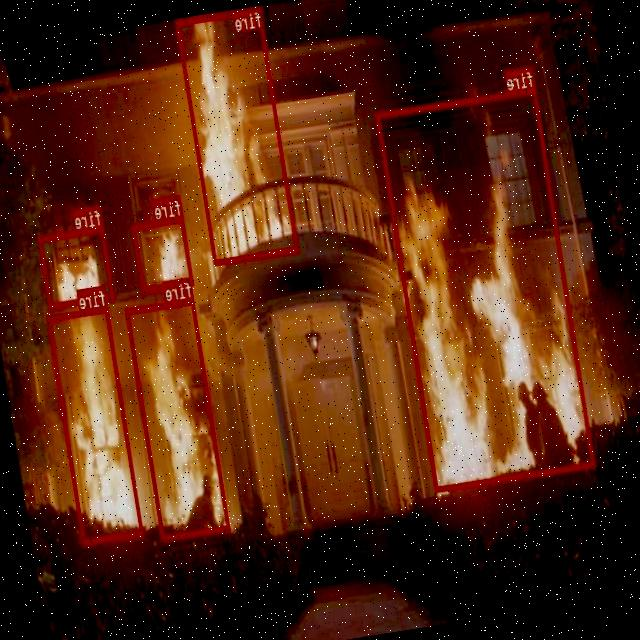fire: (376, 86, 596, 492), (176, 7, 300, 264), (126, 298, 231, 540), (46, 305, 144, 544), (38, 225, 115, 308), (132, 214, 194, 292)
